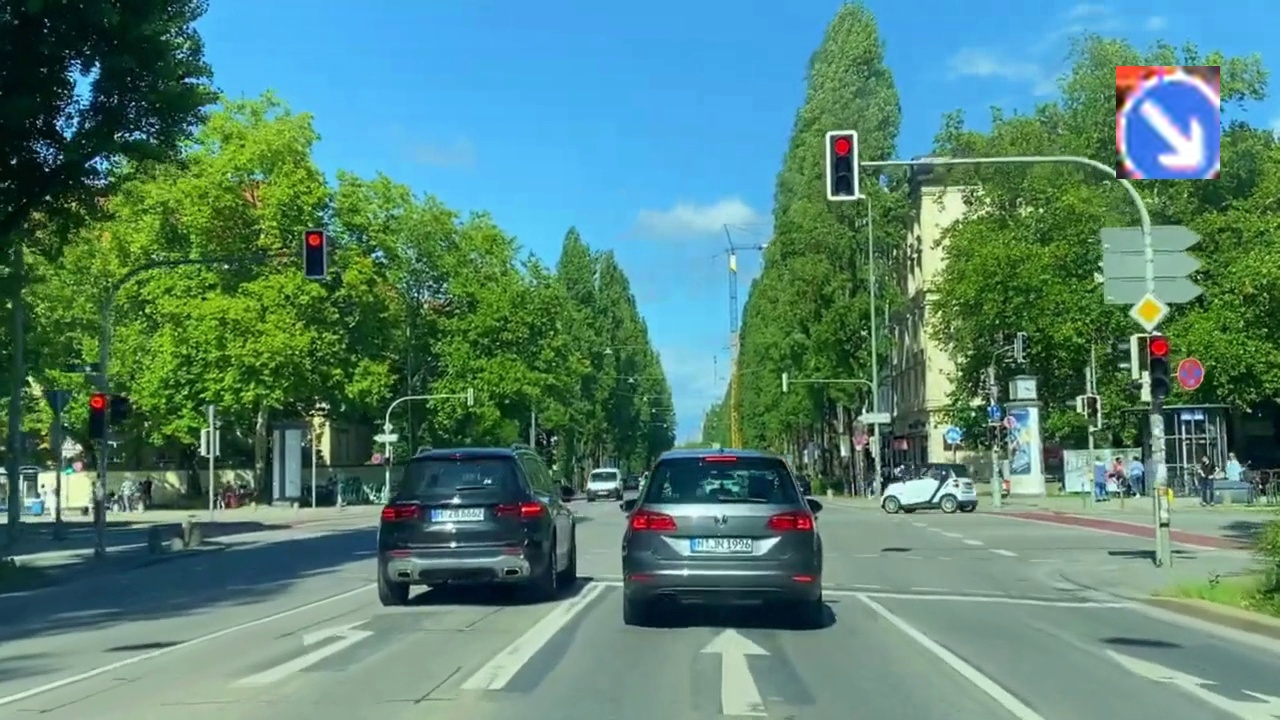Keep right: (1116, 66, 1220, 179)
